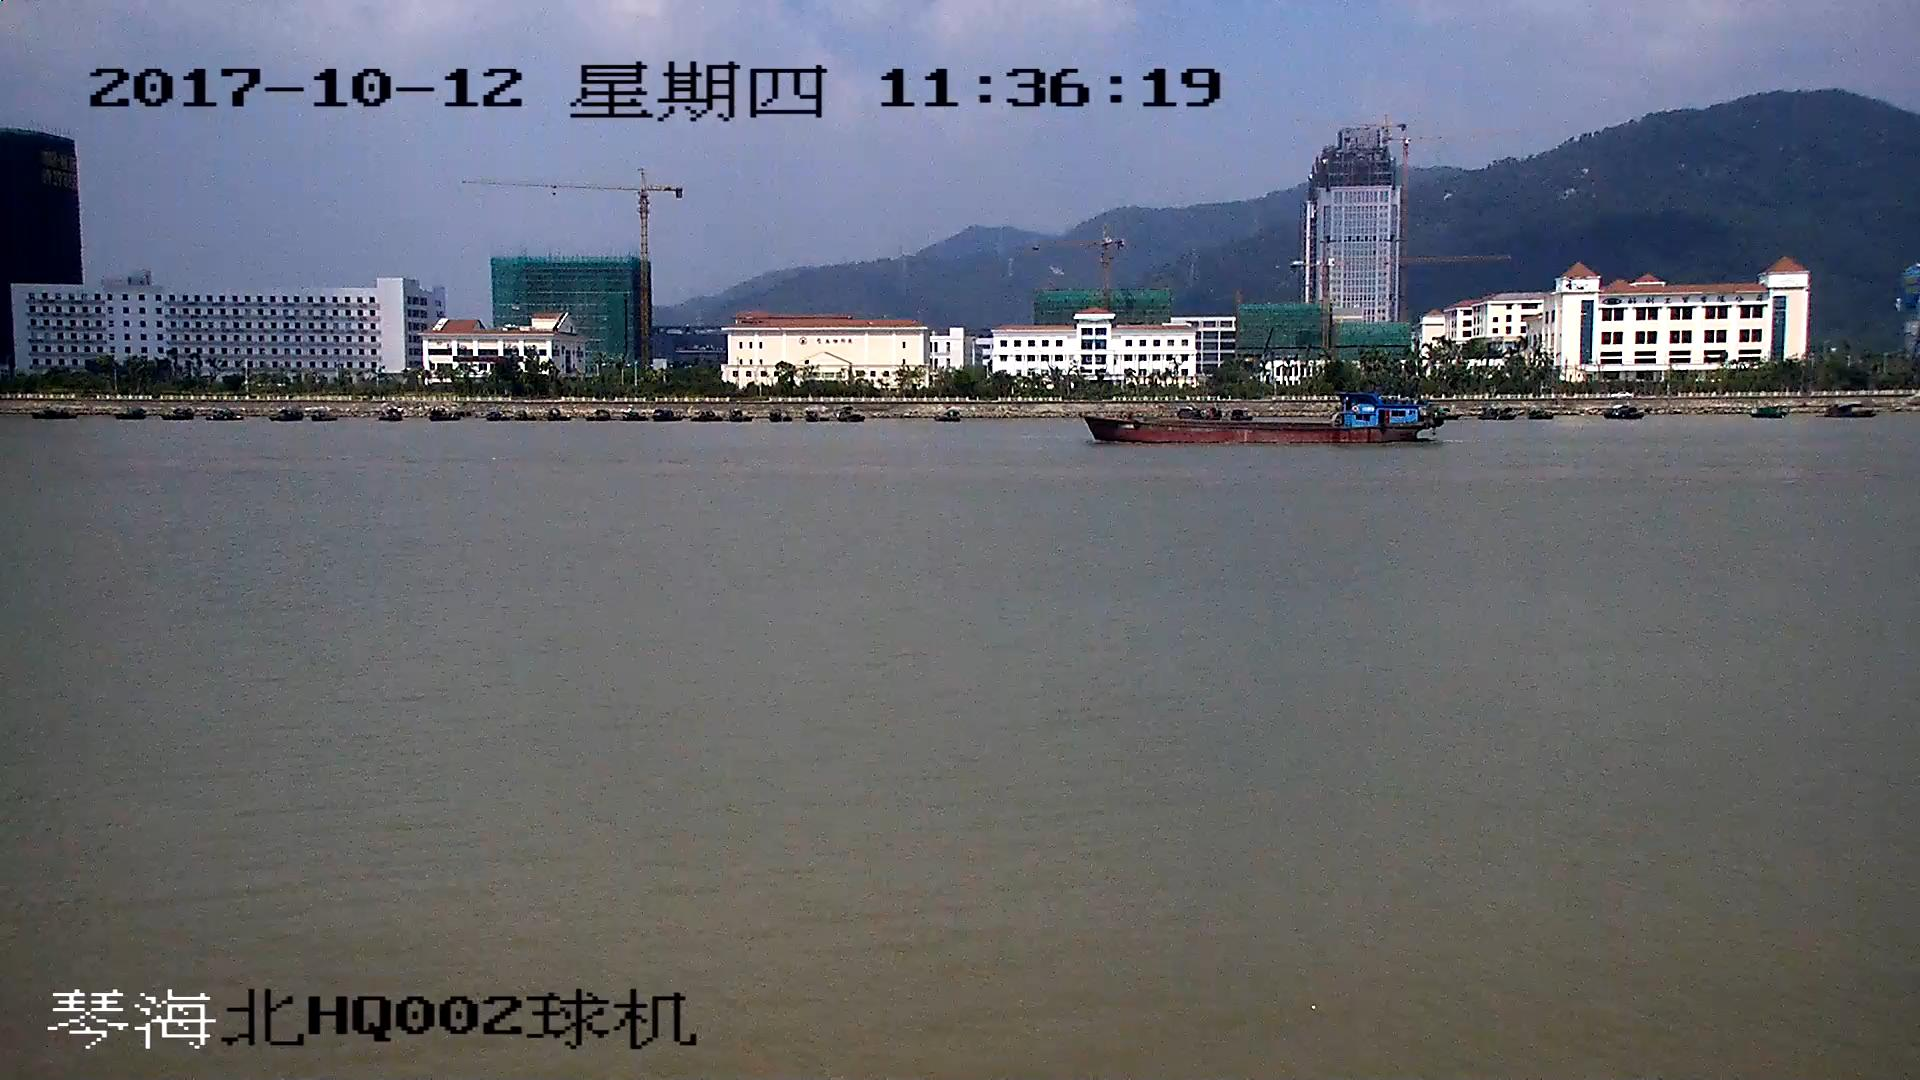bulk cargo carrier: (1083, 393, 1435, 447)
